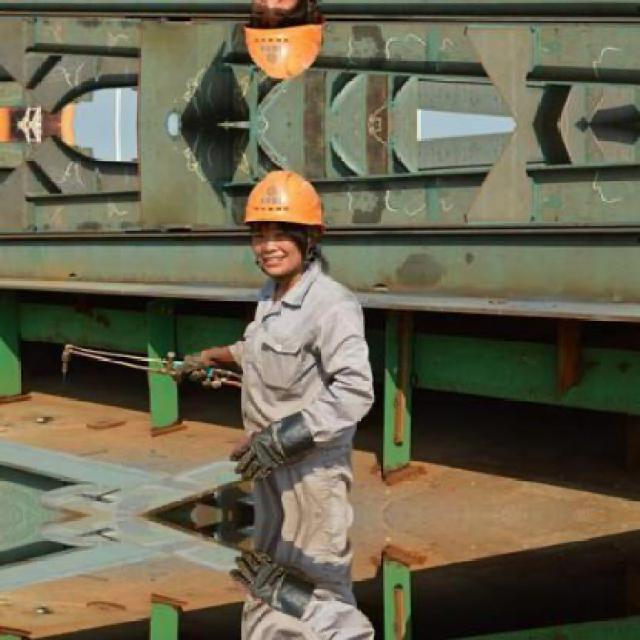helmet: (235, 157, 331, 286), (235, 0, 332, 91)
